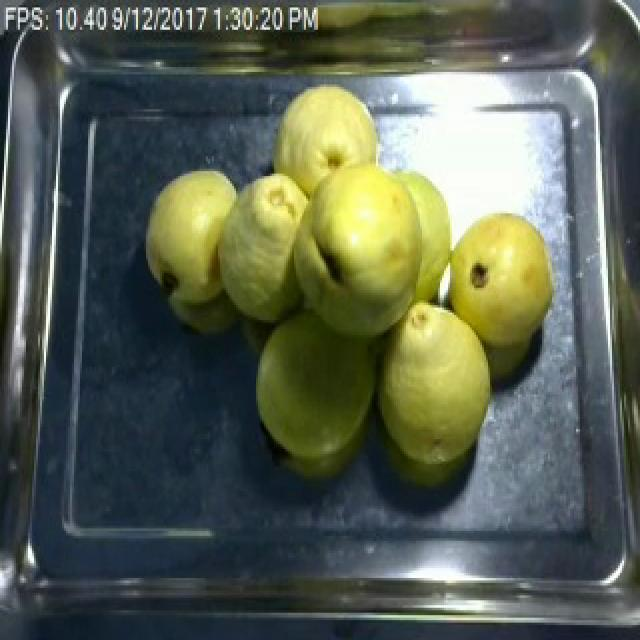Fruit: (270, 84, 468, 350), (364, 292, 508, 478), (246, 302, 386, 488), (430, 198, 566, 364), (200, 159, 322, 342), (136, 159, 254, 342)
